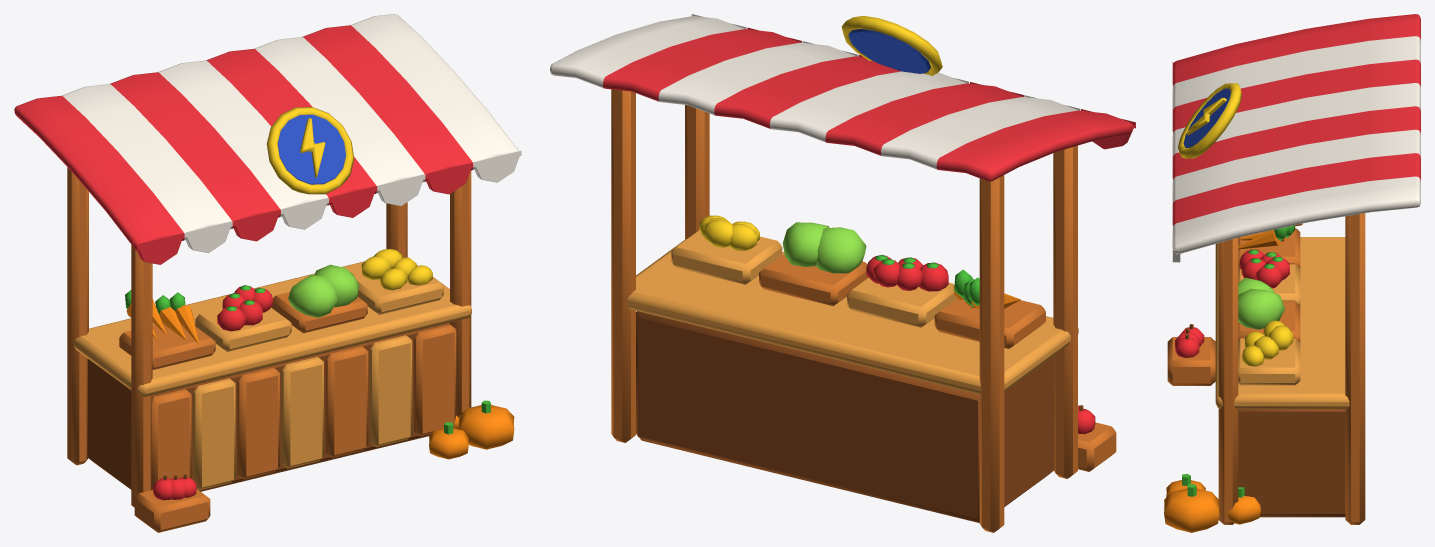
Rendered from market-stall.glb.
3 renders of one model, left to right at view 1: azimuth 30°, elevation 25°; view 2: azimuth 150°, elevation 25°; view 3: azimuth 270°, elevation 25°, orthographic. The views are drawn at different scales.
Parts seen in each view (by area): view 1: market-stall; view 2: market-stall; view 3: market-stall.
Boxes of the visible parts, <box> form: market-stall: <box>14,14,521,532</box>; market-stall: <box>550,14,1135,532</box>; market-stall: <box>1164,14,1420,532</box>.
Bounding box in the file's own units: 3.15 × 2.8 × 1.82.
